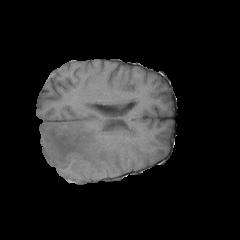glioma: (39, 123, 122, 179)
